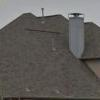Chimney: (62, 7, 92, 60)
